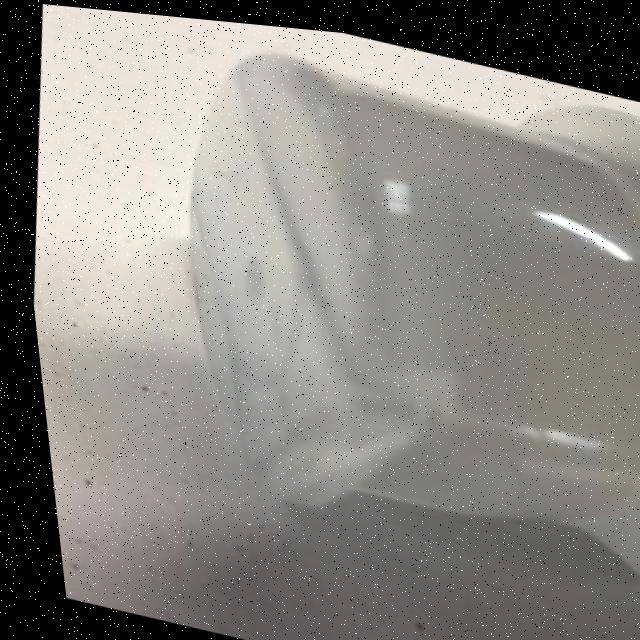plastic: (101, 8, 640, 634)
